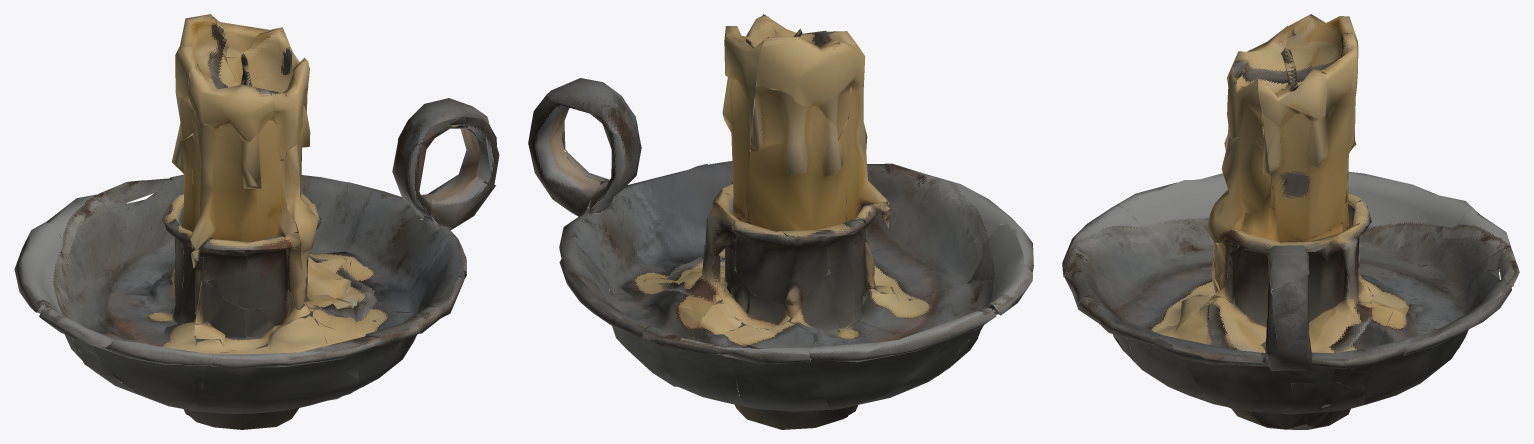
The model's file is mn_candle.glb.
3 renders of one model, left to right at view 1: azimuth 30°, elevation 25°; view 2: azimuth 150°, elevation 25°; view 3: azimuth 270°, elevation 25°, orthographic. The views are drawn at different scales.
Parts seen in each view (by area): view 1: mn_candle; view 2: mn_candle; view 3: mn_candle.
Part boxes in pixels (bbox=[...]): mn_candle: bbox=[14, 14, 499, 429]; mn_candle: bbox=[528, 14, 1033, 429]; mn_candle: bbox=[1062, 14, 1519, 429].
Size of the model in its own units: 0.1866 by 0.1498 by 0.1642.
Materials: 1 (1 with a texture image).
